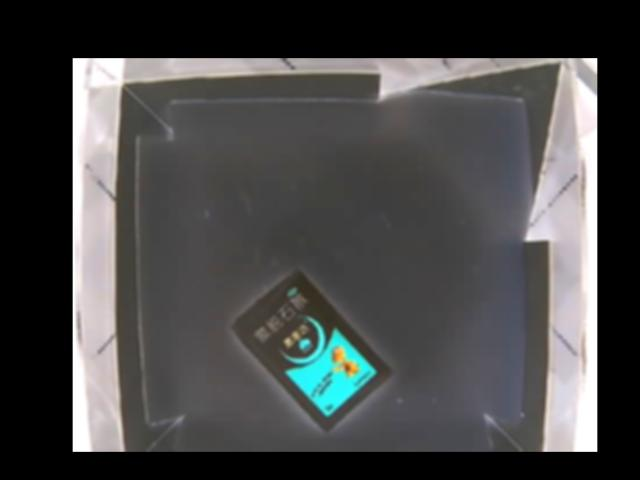Medicine: (230, 268, 393, 431)
